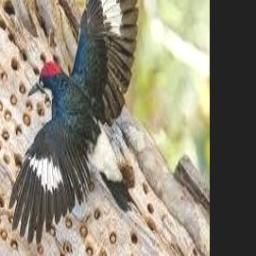Woodpecker: (9, 0, 142, 244)
